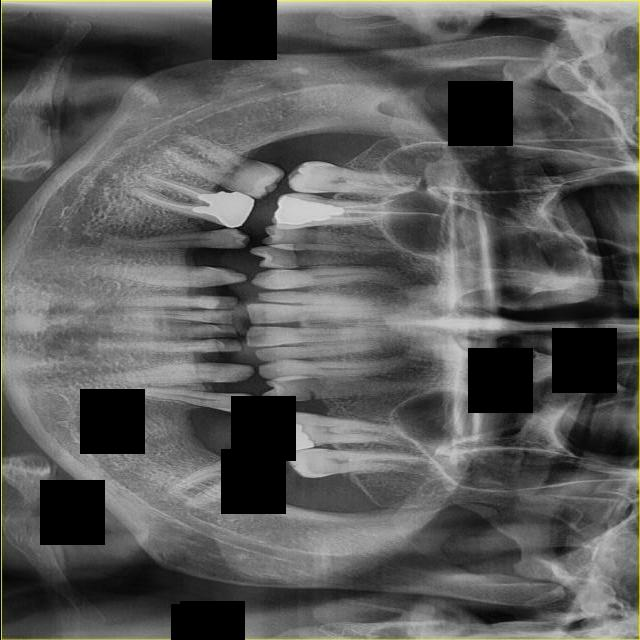74: (143, 172, 201, 197), (140, 193, 196, 212), (336, 198, 399, 211), (330, 211, 393, 223), (345, 210, 440, 217)
NucleOSS Implant: (190, 178, 255, 233), (271, 193, 346, 237), (275, 418, 315, 451)
Sterngold Implant: (306, 386, 319, 401)
